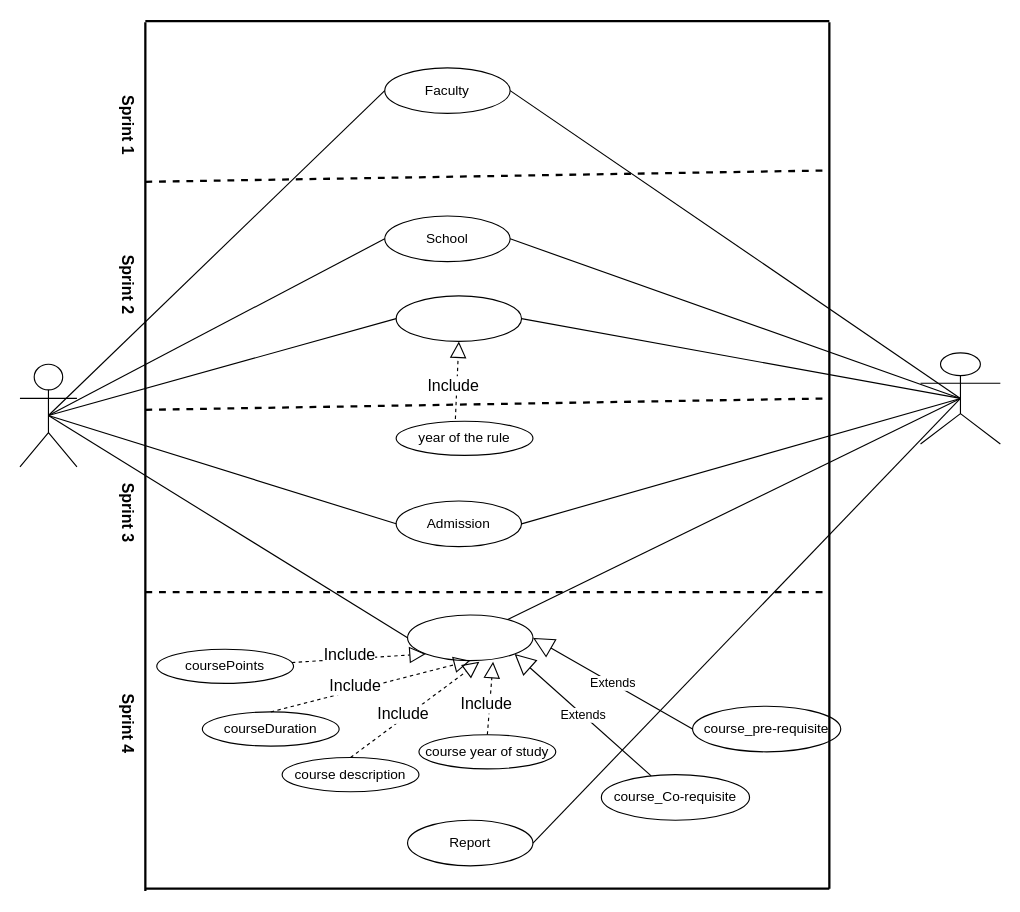
Image size: 1020x912. Some labels were removed from this diagram. Each missing label, with the centre of its shape:
"Admin" belongs at point 959,398.
"Course" belongs at point 469,637.
"Rules" belongs at point 458,318.
"User" belongs at point 48,415.
